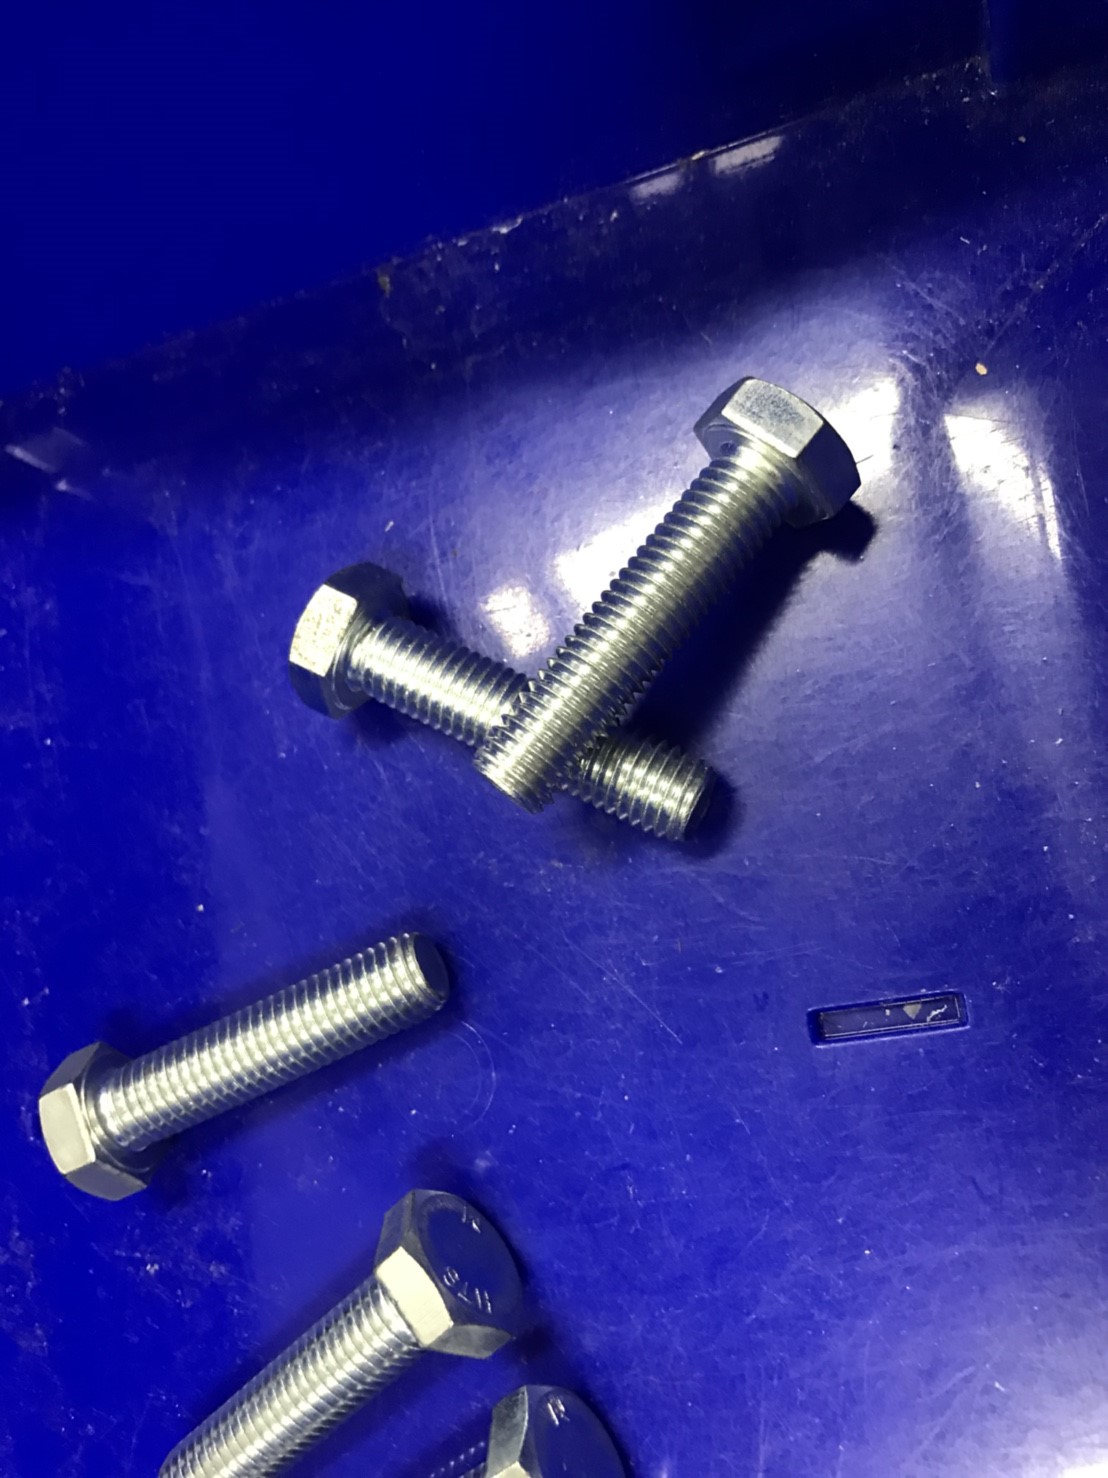screw: (462, 372, 868, 832), (24, 915, 498, 1231), (274, 561, 730, 855), (114, 1181, 564, 1478)
